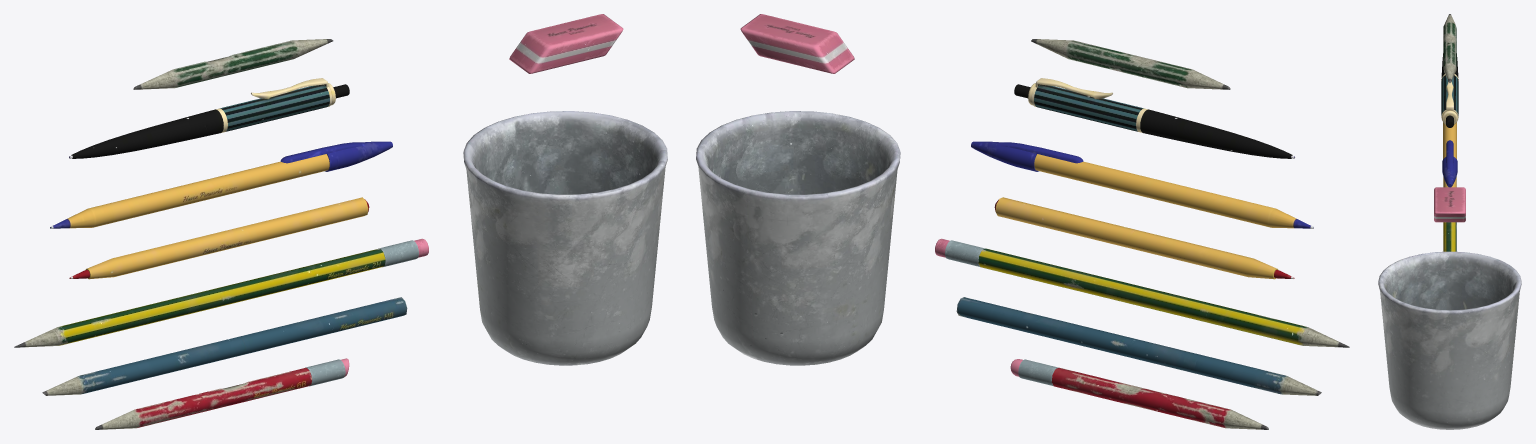
Rendered from stationery.glb.
3 views of the same model, side by side, from view 1: azimuth 30°, elevation 25°; view 2: azimuth 150°, elevation 25°; view 3: azimuth 270°, elevation 25° (orthographic). The views are drawn at different scales.
Parts seen in each view (by area): view 1: stationery_supplies_pencilcup, stationery_supplies_pencil_new_a, stationery_supplies_pencil_new_b, stationery_supplies_pen_blue, stationery_supplies_pen_fancy, stationery_supplies_pen_red, stationery_supplies_pencil_used, stationery_supplies_eraser, stationery_supplies_pencil_old; view 2: stationery_supplies_pencilcup, stationery_supplies_pencil_new_a, stationery_supplies_pencil_new_b, stationery_supplies_pen_blue, stationery_supplies_pen_fancy, stationery_supplies_pen_red, stationery_supplies_pencil_used, stationery_supplies_eraser, stationery_supplies_pencil_old; view 3: stationery_supplies_pencilcup, stationery_supplies_eraser, stationery_supplies_pen_fancy, stationery_supplies_pen_blue, stationery_supplies_pencil_old, stationery_supplies_pencil_new_a.
Part boxes in pixels (x1,y1,x2,y2): stationery_supplies_pencilcup: (463,111,667,365); stationery_supplies_pencil_new_a: (14,238,428,347); stationery_supplies_pencil_new_b: (42,297,407,395); stationery_supplies_pen_blue: (50,141,392,228); stationery_supplies_pen_fancy: (69,78,349,158); stationery_supplies_pen_red: (69,197,369,279); stationery_supplies_pencil_used: (95,358,349,429); stationery_supplies_eraser: (509,14,623,73); stationery_supplies_pencil_old: (133,39,333,89); stationery_supplies_pencilcup: (696,111,900,365); stationery_supplies_pencil_new_a: (935,238,1349,347); stationery_supplies_pencil_new_b: (956,297,1321,395); stationery_supplies_pen_blue: (971,141,1313,228); stationery_supplies_pen_fancy: (1014,78,1294,158); stationery_supplies_pen_red: (994,197,1294,279); stationery_supplies_pencil_used: (1010,359,1268,429); stationery_supplies_eraser: (740,14,854,73); stationery_supplies_pencil_old: (1031,39,1230,89); stationery_supplies_pencilcup: (1378,251,1521,429); stationery_supplies_eraser: (1434,187,1465,222); stationery_supplies_pen_fancy: (1441,53,1458,127); stationery_supplies_pen_blue: (1442,122,1457,187); stationery_supplies_pencil_old: (1443,14,1456,82); stationery_supplies_pencil_new_a: (1443,222,1456,251).
Size of the model in its own units: 0.3019 by 0.1643 by 0.0837.
1 material, 1 textured.
